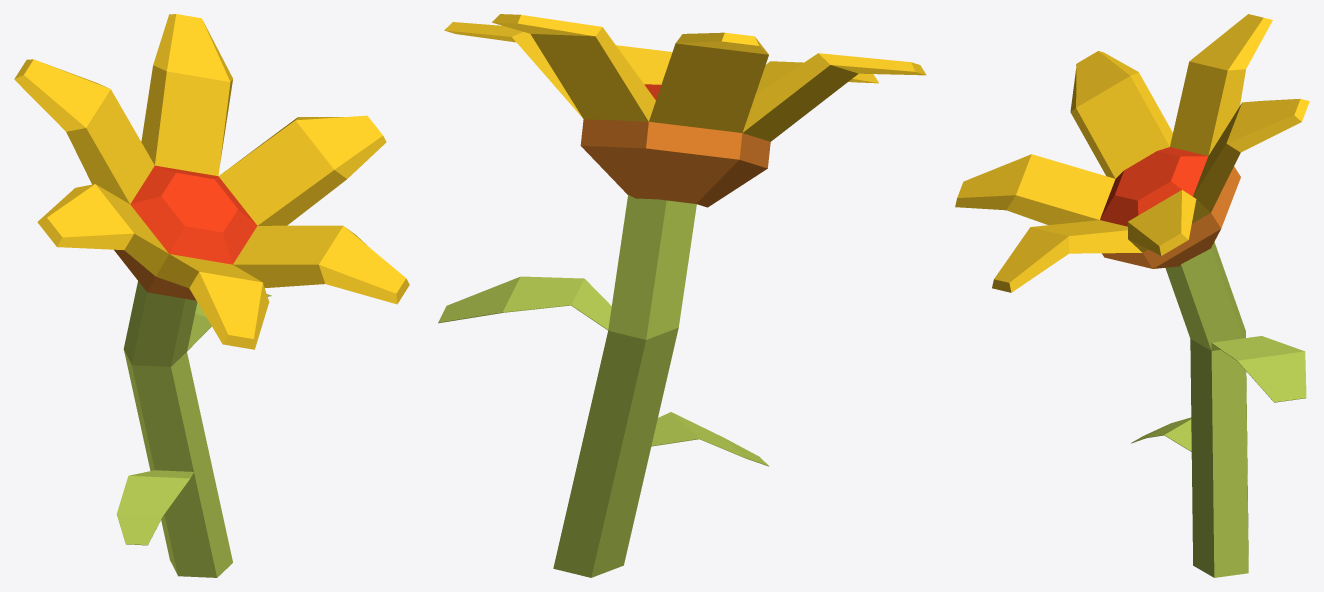
The model's file is Flower_04.glb.
The picture shows the model from 3 angles, left to right: view 1: azimuth 30°, elevation 25°; view 2: azimuth 150°, elevation 25°; view 3: azimuth 270°, elevation 25°; orthographic projection. The views are drawn at different scales.
Parts seen in each view (by area): view 1: Flower_04; view 2: Flower_04; view 3: Flower_04.
Boxes of the visible parts, bbox=[...] form: Flower_04: bbox=[14, 14, 409, 577]; Flower_04: bbox=[438, 14, 926, 577]; Flower_04: bbox=[955, 14, 1309, 577].
Size of the model in its own units: 0.3697 by 0.4878 by 0.3248.
1 material, 1 textured.
